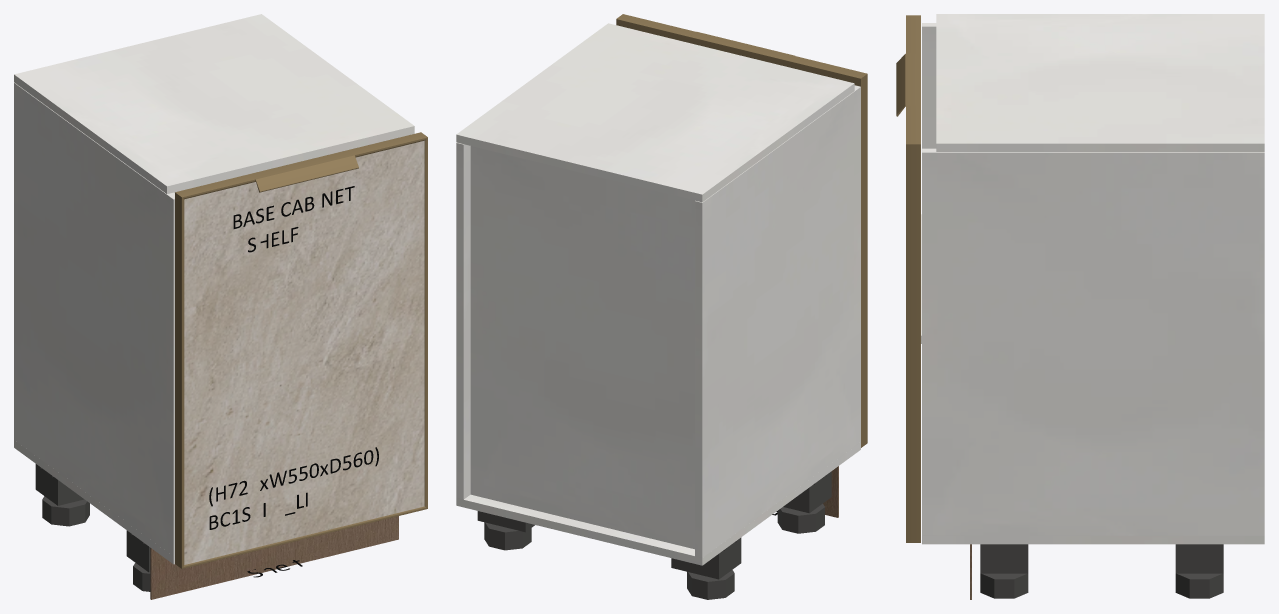
Rendered from BC-SH-TTS-ST-1SX-LHS-XXX-500-720-560-15.glb.
3 views of the same model, side by side, from view 1: azimuth 30°, elevation 25°; view 2: azimuth 150°, elevation 25°; view 3: azimuth 270°, elevation 25° (orthographic). The views are drawn at different scales.
Visible parts, largest first — view 1: Object_node_12, TP_node, TP_node_1, Object_node_14, Extrusion_node_4, ExtrSplGeo, Extrusion_node, Extrusion_node_2, 2D text_node, TP, Foot, 2D text (+3 smaller); view 2: TP_node_3, TP_node, TP_node_1, TP_node_0, TP, Extrusion_node_4, Extrusion_node, ExtrSplGeo, Plate, Foot, Foot_node_0, Foot_node (+2 smaller); view 3: TP_node_0, TP_node_1, Extrusion_node_2, TP, TP_node, Plate_node, Plate_node_1, ExtrSplGeo, Foot_node, Foot_node_1, Extrusion_node.
Part boxes in pixels (left/top/right/bottom): Object_node_12: left=184, top=140, right=424, bottom=564; TP_node: left=14, top=82, right=174, bottom=556; TP_node_1: left=14, top=14, right=414, bottom=193; Object_node_14: left=150, top=516, right=398, bottom=599; Extrusion_node_4: left=175, top=192, right=184, bottom=568; ExtrSplGeo: left=249, top=150, right=358, bottom=192; Extrusion_node: left=175, top=132, right=427, bottom=199; Extrusion_node_2: left=424, top=138, right=427, bottom=508; 2D text_node: left=209, top=447, right=378, bottom=529; TP: left=14, top=440, right=174, bottom=564; Foot: left=42, top=496, right=89, bottom=526; 2D text: left=233, top=186, right=354, bottom=252; TP_node_3: left=470, top=146, right=694, bottom=549; TP_node: left=695, top=85, right=860, bottom=557; TP_node_1: left=456, top=23, right=854, bottom=202; TP_node_0: left=456, top=142, right=470, bottom=499; TP: left=456, top=442, right=860, bottom=565; Extrusion_node_4: left=854, top=74, right=867, bottom=447; Extrusion_node: left=616, top=14, right=867, bottom=83; ExtrSplGeo: left=689, top=31, right=794, bottom=66; Plate: left=671, top=537, right=741, bottom=579; Foot: left=687, top=570, right=734, bottom=599; Foot_node_0: left=777, top=503, right=824, bottom=533; Foot_node: left=484, top=522, right=531, bottom=550; TP_node_0: left=922, top=148, right=1264, bottom=535; TP_node_1: left=936, top=14, right=1264, bottom=151; Extrusion_node_2: left=906, top=144, right=920, bottom=542; TP: left=922, top=536, right=1264, bottom=544; TP_node: left=922, top=23, right=936, bottom=148; Plate_node: left=1175, top=544, right=1223, bottom=573; Plate_node_1: left=980, top=544, right=1028, bottom=573; ExtrSplGeo: left=896, top=53, right=920, bottom=116; Foot_node: left=1175, top=573, right=1223, bottom=598; Foot_node_1: left=980, top=573, right=1028, bottom=598; Extrusion_node: left=906, top=15, right=920, bottom=144.
Size of what is drawn, in the model's own units: 0.5 by 0.82 by 0.6.
6 materials, 3 textured.
